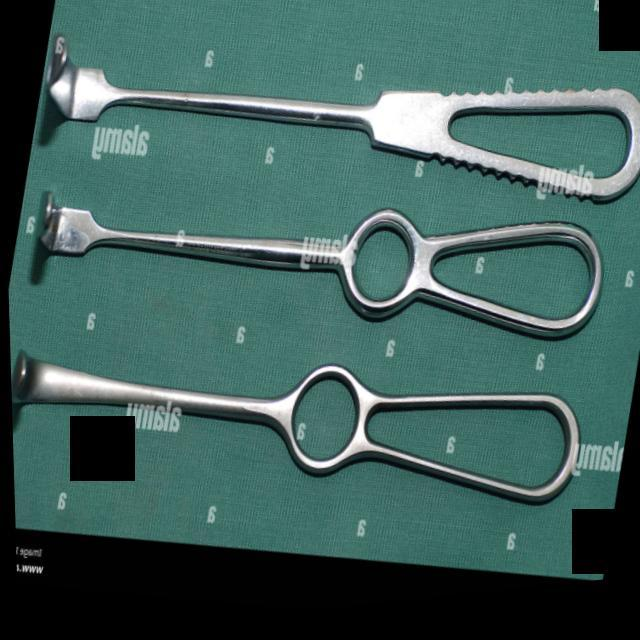Morris Retractor: (12, 121, 624, 413), (25, 0, 640, 279)
